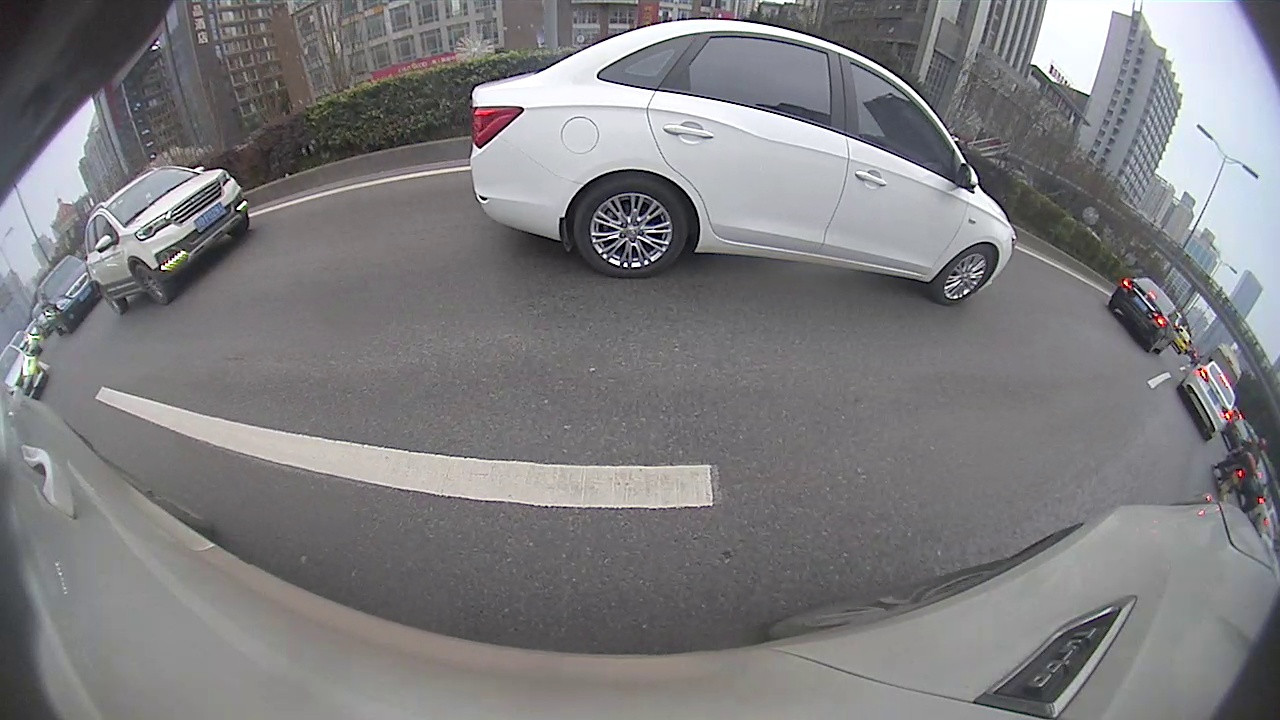bus: (894, 147, 1089, 224), (396, 163, 478, 186)
car: (986, 211, 1200, 334), (1172, 253, 1234, 321), (799, 162, 877, 202), (155, 267, 220, 306), (400, 179, 455, 207), (708, 157, 751, 186), (873, 177, 905, 207), (751, 161, 780, 184), (617, 160, 645, 180)
front: (999, 232, 1027, 261), (912, 193, 930, 213)
rear: (1106, 280, 1142, 323)
